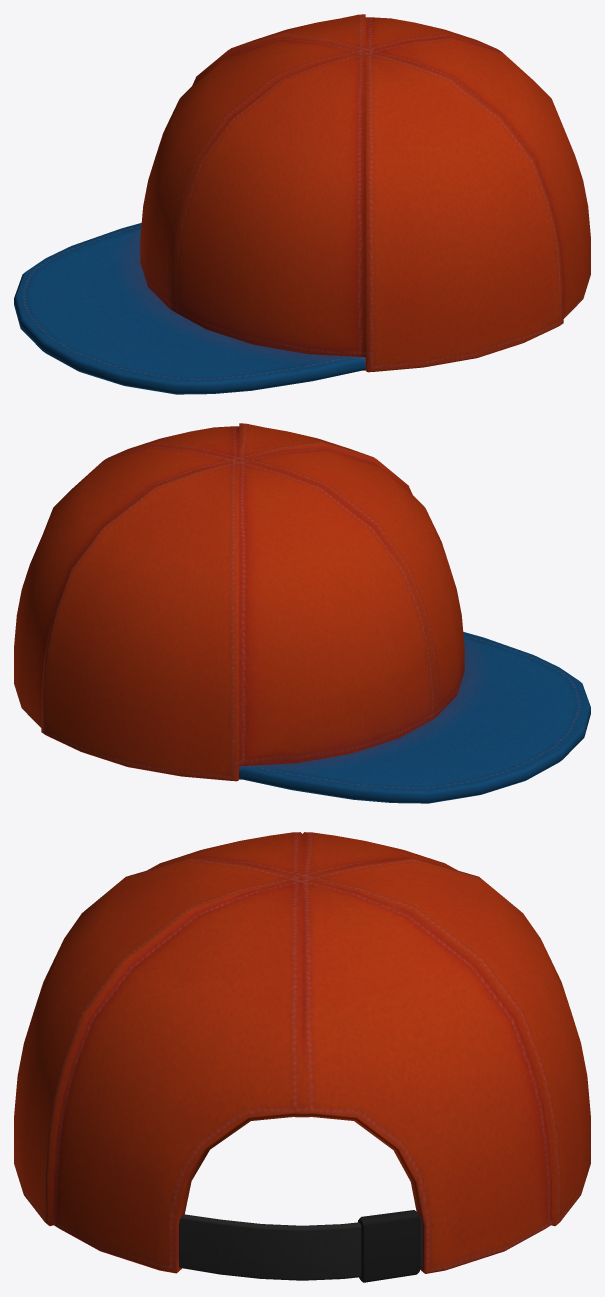
The model's file is StackUp_Cap.fbx.
3 views of the same model, one above another, from view 1: azimuth 30°, elevation 25°; view 2: azimuth 150°, elevation 25°; view 3: azimuth 270°, elevation 25° (orthographic). The views are drawn at different scales.
Parts seen in each view (by area): view 1: StackUp_Cap; view 2: StackUp_Cap; view 3: StackUp_Cap.
Boxes of the visible parts, bbox=[...] form: StackUp_Cap: bbox=[14, 14, 590, 394]; StackUp_Cap: bbox=[14, 423, 590, 803]; StackUp_Cap: bbox=[14, 832, 590, 1282].
Size of the model in its own units: 19.64 by 8.18 by 14.84.
